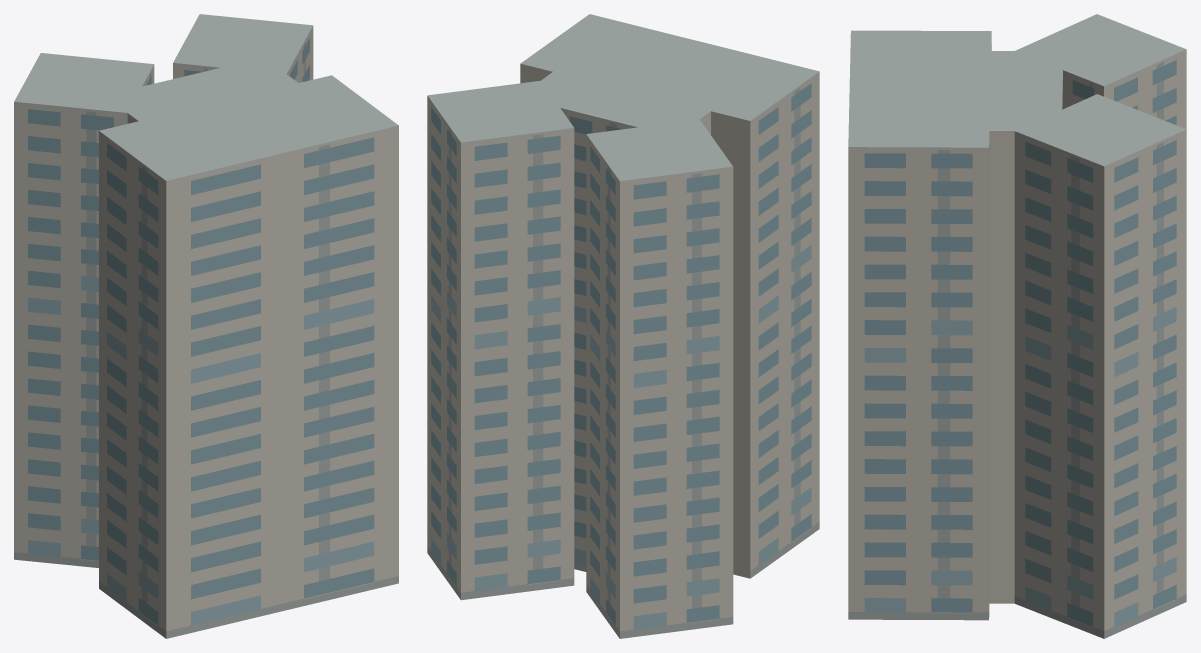
The model's file is residential-814a26fe-3860-44dc-8646-04999998fbe3.glb.
The picture shows the model from 3 angles, left to right: view 1: azimuth 30°, elevation 25°; view 2: azimuth 150°, elevation 25°; view 3: azimuth 270°, elevation 25°; orthographic projection. The views are drawn at different scales.
Parts seen in each view (by area): view 1: residential-814a26fe-3860-44dc-8646-04999998fbe3.tmp; view 2: residential-814a26fe-3860-44dc-8646-04999998fbe3.tmp; view 3: residential-814a26fe-3860-44dc-8646-04999998fbe3.tmp.
Part boxes in pixels (x1,y1,x2,y2): residential-814a26fe-3860-44dc-8646-04999998fbe3.tmp: (14,14,398,638); residential-814a26fe-3860-44dc-8646-04999998fbe3.tmp: (427,14,819,638); residential-814a26fe-3860-44dc-8646-04999998fbe3.tmp: (848,14,1186,638).
Size of the model in its own units: 32.51 by 47 by 30.51.
